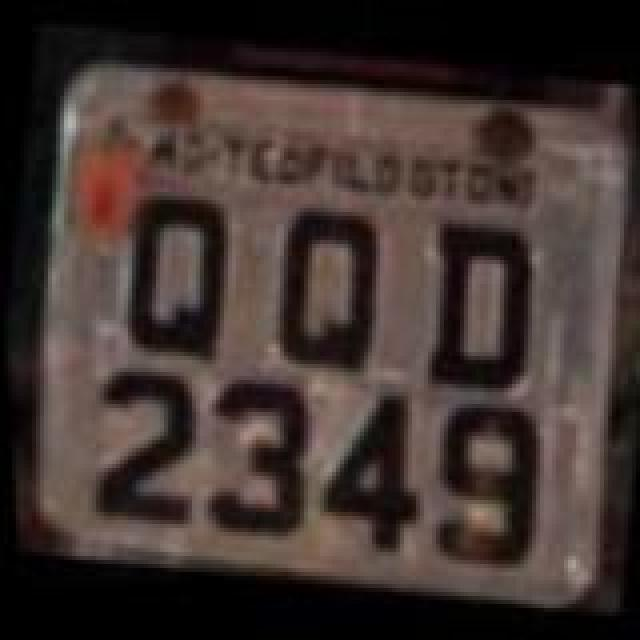2: (76, 356, 216, 532)
3: (186, 370, 330, 542)
4: (300, 374, 444, 558)
9: (414, 388, 554, 572)
D: (406, 214, 546, 394)
Q: (254, 202, 394, 382), (106, 184, 242, 368)
